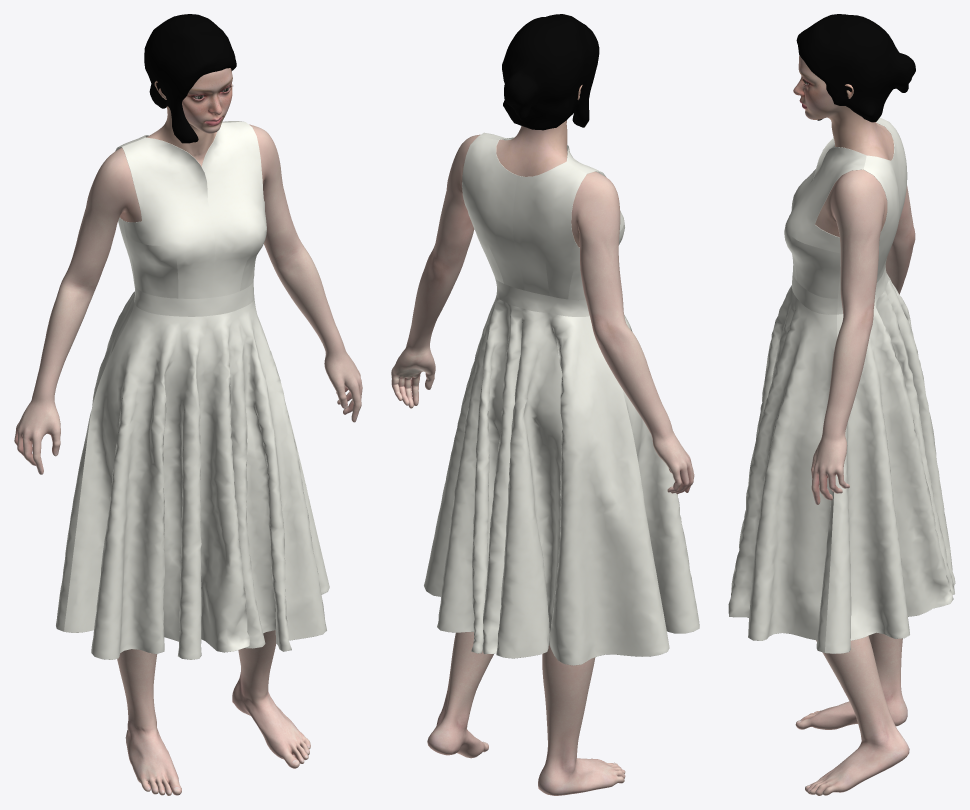
Rendered from Custom_View_8__FV2_07.obj.
The picture shows the model from 3 angles, left to right: view 1: azimuth 30°, elevation 25°; view 2: azimuth 150°, elevation 25°; view 3: azimuth 270°, elevation 25°; orthographic projection. The views are drawn at different scales.
Bounding box in the file's own units: 775 × 1773 × 498.
